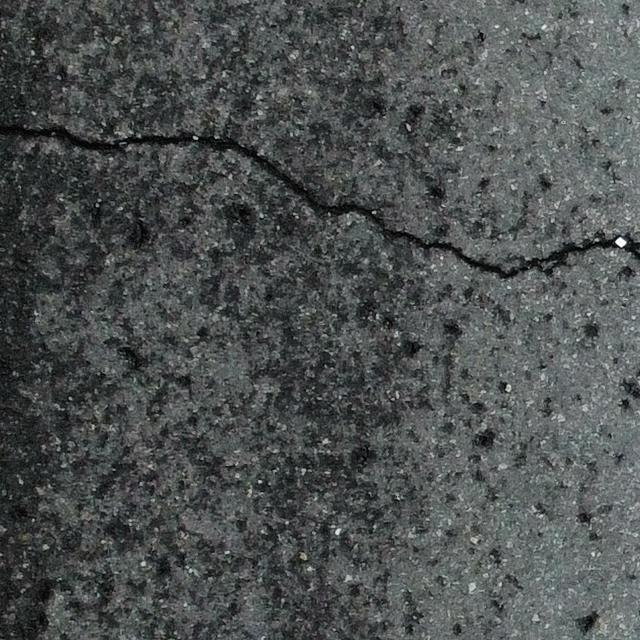TransverseCrack: (1, 123, 640, 282)
